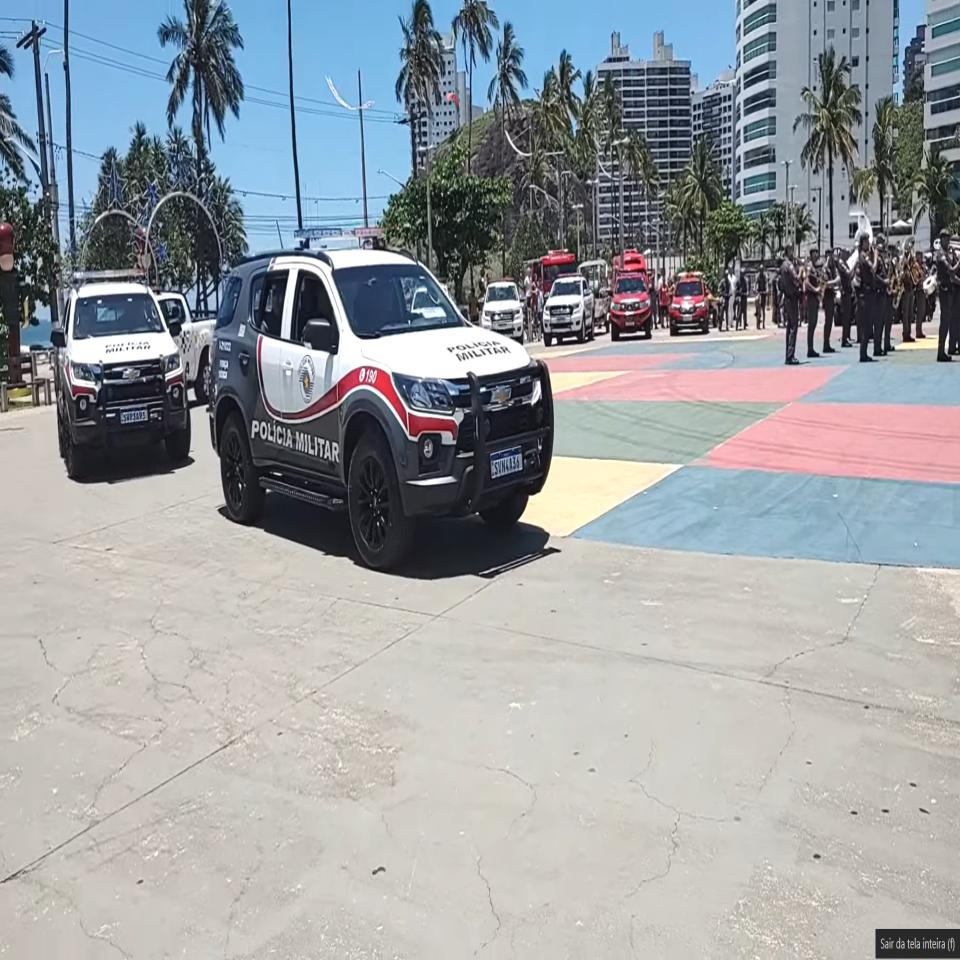viatura: (205, 220, 556, 572), (48, 266, 192, 477)
